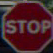Stop: (3, 1, 51, 48)
